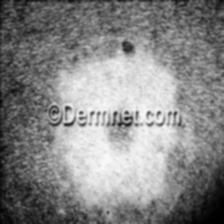Potentially Malignant Skin Tumors: (59, 132, 191, 198), (65, 52, 171, 104)
